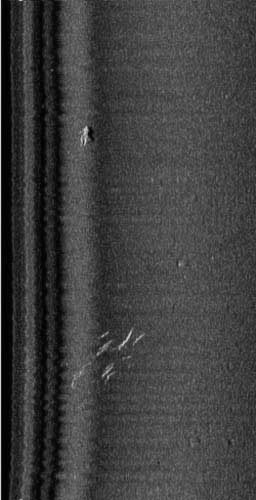man: (77, 125, 90, 147)
